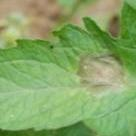Tomato leaf late blight: (0, 31, 136, 136)
